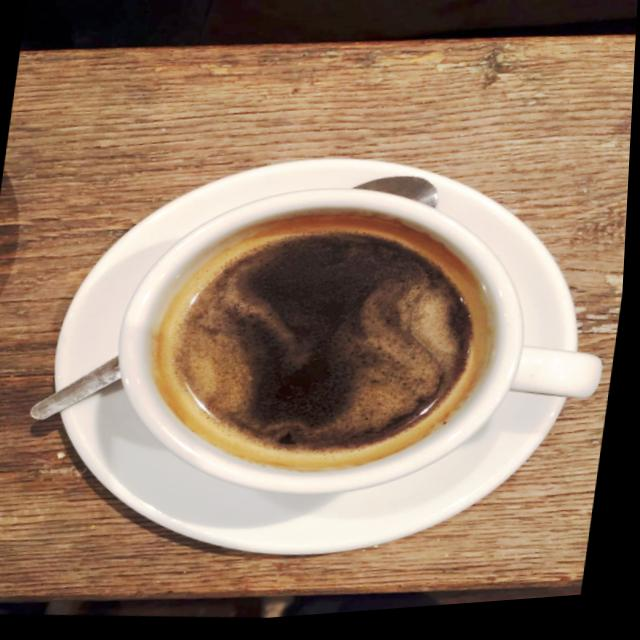drink: (119, 189, 601, 492)
